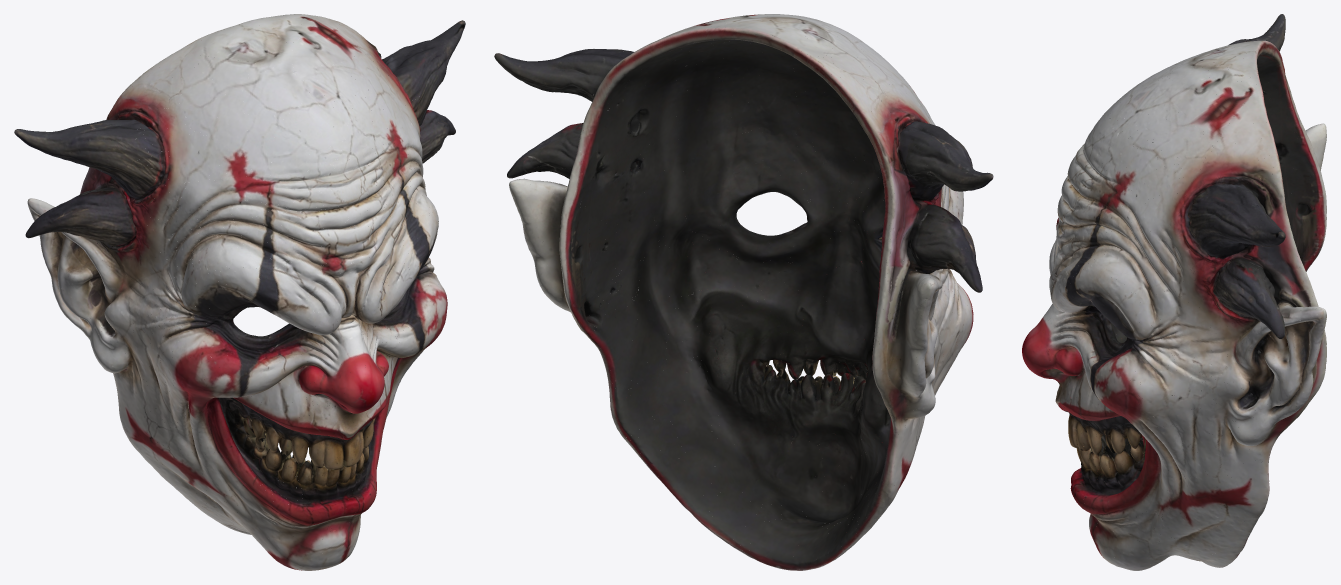
Rendered from clown.glb.
3 renders of one model, left to right at view 1: azimuth 30°, elevation 25°; view 2: azimuth 150°, elevation 25°; view 3: azimuth 270°, elevation 25°, orthographic. The views are drawn at different scales.
Visible parts, largest first — view 1: Object_6, Object_8, Object_5, Object_4, Object_7, Object_9, Object_10; view 2: Object_9, Object_7, Object_8, Object_6, Object_5, Object_4, Object_10; view 3: Object_6, Object_5, Object_8, Object_4, Object_9, Object_7, Object_10.
Part boxes in pixels (x1,y1,x2,y2): Object_6: [14, 14, 441, 559]; Object_8: [48, 14, 449, 568]; Object_5: [41, 20, 462, 570]; Object_4: [28, 38, 455, 550]; Object_7: [65, 15, 430, 566]; Object_9: [20, 15, 465, 566]; Object_10: [183, 100, 442, 570]; Object_9: [494, 16, 988, 542]; Object_7: [523, 16, 961, 561]; Object_8: [550, 15, 976, 570]; Object_6: [533, 14, 993, 548]; Object_5: [498, 33, 975, 570]; Object_4: [511, 49, 981, 551]; Object_10: [726, 55, 965, 511]; Object_6: [1049, 14, 1326, 535]; Object_5: [1039, 40, 1320, 567]; Object_8: [1070, 39, 1269, 564]; Object_4: [1036, 40, 1301, 569]; Object_9: [1111, 22, 1326, 570]; Object_7: [1022, 41, 1326, 562]; Object_10: [1105, 91, 1135, 566].
Bounding box in the file's own units: 1.78 × 1.9 × 1.04.
Materials: 1 (1 with a texture image).
